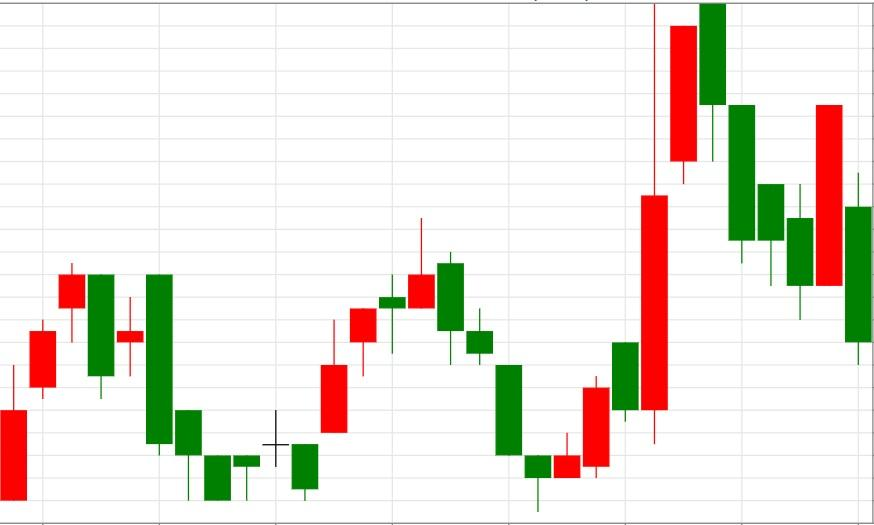three_black_crows_fall: (204, 217, 523, 501)
